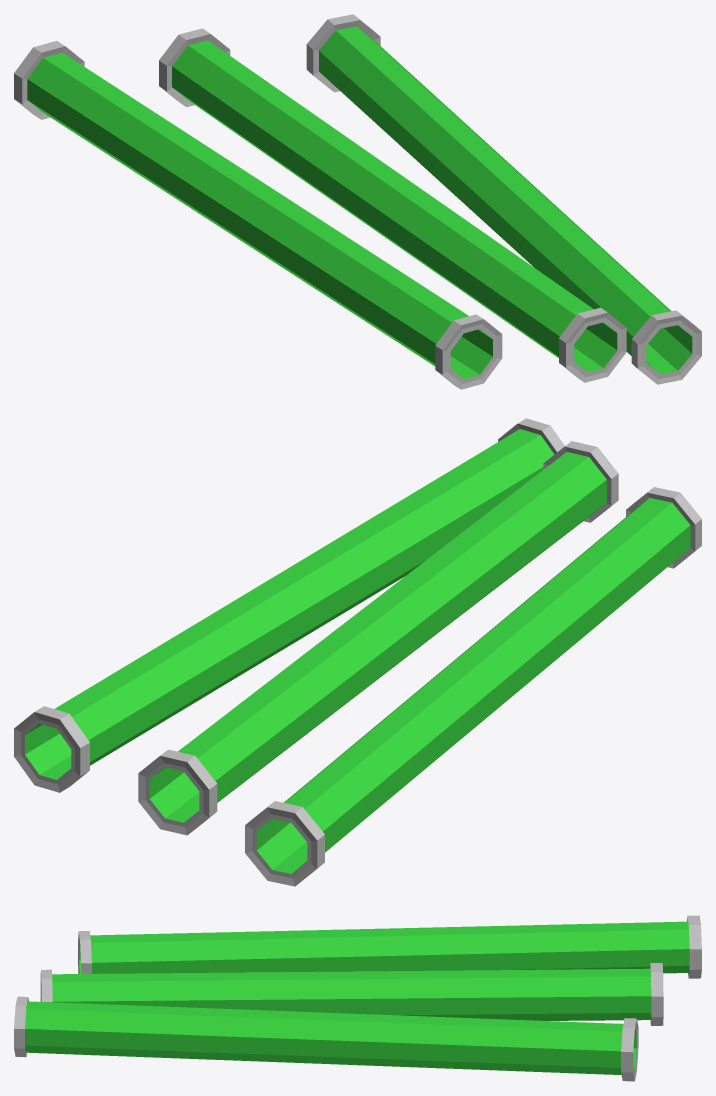
Rendered from otras_cosas4.fbx.
The picture shows the model from 3 angles, top to bottom: view 1: azimuth 30°, elevation 25°; view 2: azimuth 150°, elevation 25°; view 3: azimuth 270°, elevation 25°; orthographic projection. The views are drawn at different scales.
Visible parts, largest first — view 1: caños_largos; view 2: caños_largos; view 3: caños_largos.
Part boxes in pixels (x1,y1,x2,y2): caños_largos: [14, 14, 701, 389]; caños_largos: [14, 418, 701, 886]; caños_largos: [14, 915, 701, 1081].
Bounding box in the file's own units: 0.6147 × 0.1335 × 1.44.
